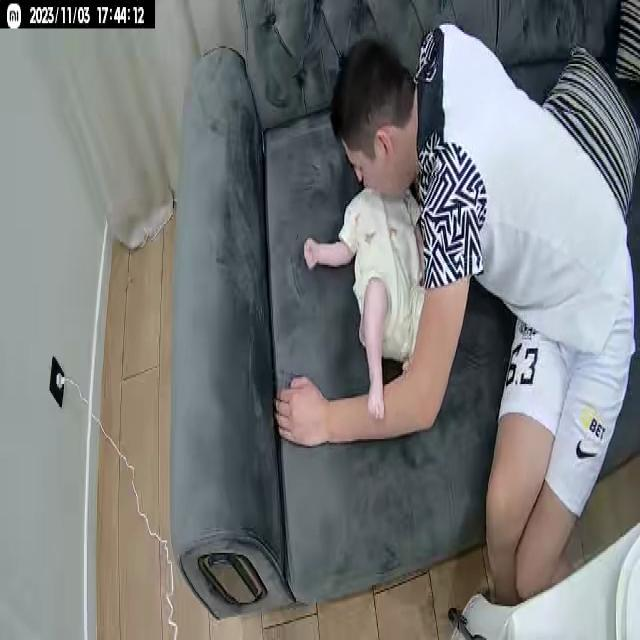baby: (303, 166, 433, 425)
